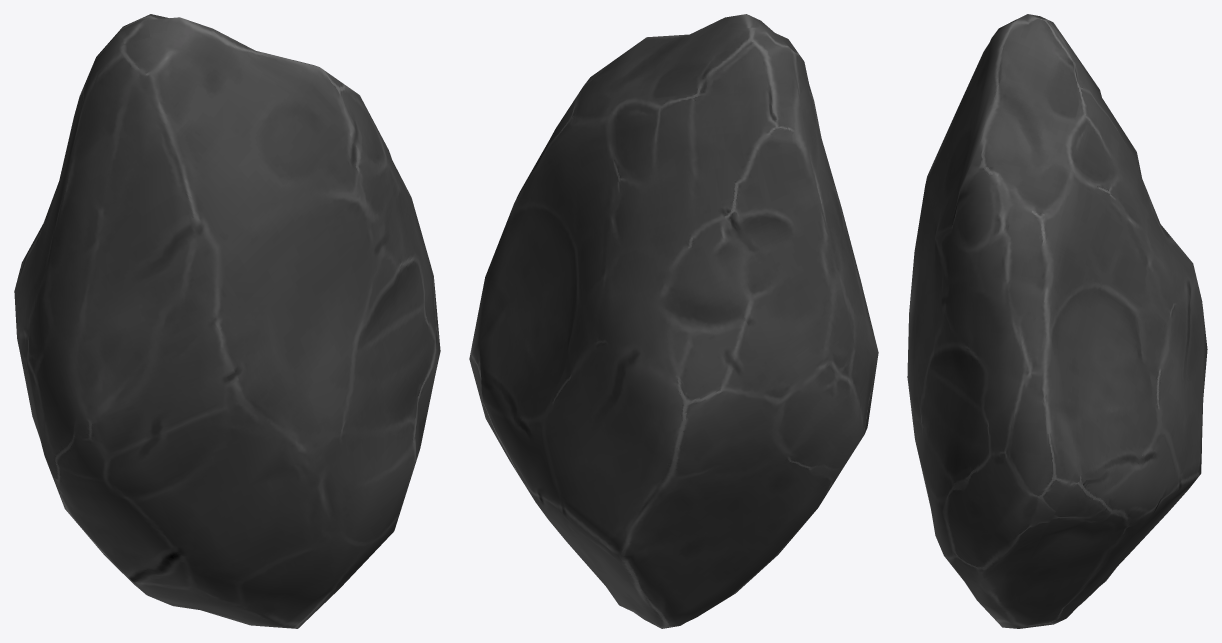
Rendered from stylized_rock.glb.
3 views of the same model, side by side, from view 1: azimuth 30°, elevation 25°; view 2: azimuth 150°, elevation 25°; view 3: azimuth 270°, elevation 25° (orthographic). The views are drawn at different scales.
Visible parts, largest first — view 1: Object_2; view 2: Object_2; view 3: Object_2.
Boxes of the visible parts, x1,y1,x2,y2 form: Object_2: (14,14,440,628); Object_2: (469,14,878,628); Object_2: (907,14,1207,628).
Bounding box in the file's own units: 0.1432 × 0.2217 × 0.107.
Materials: 1 (1 with a texture image).
